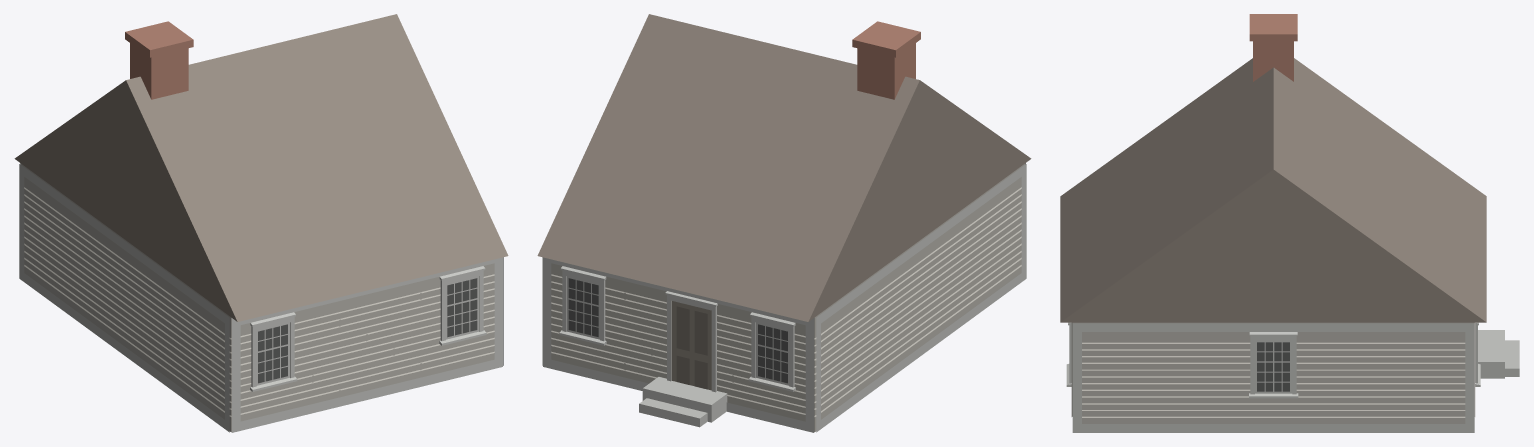
File: recon_1835_north_d4_043__inferred_1835.glb
3 views of the same model, side by side, from view 1: azimuth 30°, elevation 25°; view 2: azimuth 150°, elevation 25°; view 3: azimuth 270°, elevation 25° (orthographic). The views are drawn at different scales.
Visible parts, largest first — view 1: recon_1835_north_d4_043__inferred_1835; view 2: recon_1835_north_d4_043__inferred_1835; view 3: recon_1835_north_d4_043__inferred_1835.
Boxes of the visible parts, left/top/right/bottom form: recon_1835_north_d4_043__inferred_1835: left=14, top=14, right=508, bottom=432; recon_1835_north_d4_043__inferred_1835: left=537, top=14, right=1031, bottom=432; recon_1835_north_d4_043__inferred_1835: left=1060, top=14, right=1519, bottom=432.
Size of the model in its own units: 6.26 by 6.71 by 9.39.
